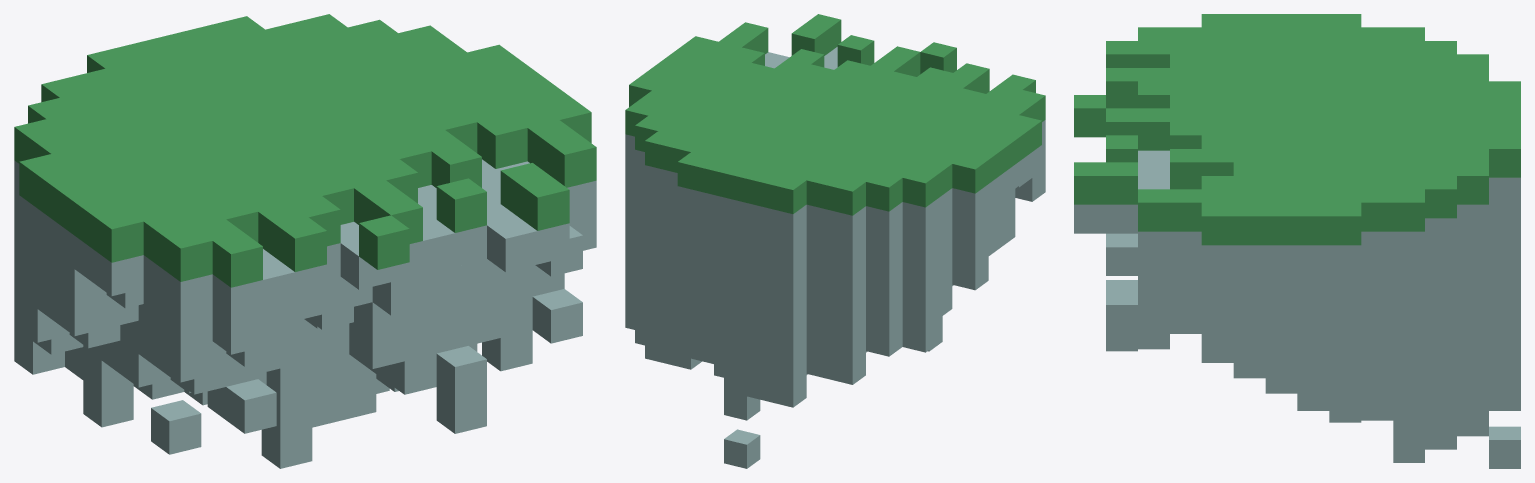
Rendered from FloatingPlatform2.obj.
3 views of the same model, side by side, from view 1: azimuth 30°, elevation 25°; view 2: azimuth 150°, elevation 25°; view 3: azimuth 270°, elevation 25° (orthographic). The views are drawn at different scales.
Parts seen in each view (by area): view 1: FloatingPlatform2; view 2: FloatingPlatform2; view 3: FloatingPlatform2.
Part boxes in pixels (x1,y1,x2,y2): FloatingPlatform2: [14, 14, 596, 468]; FloatingPlatform2: [625, 14, 1045, 468]; FloatingPlatform2: [1074, 14, 1520, 468].
Bounding box in the file's own units: 15 × 12 × 14.
Materials: 1 (1 with a texture image).
